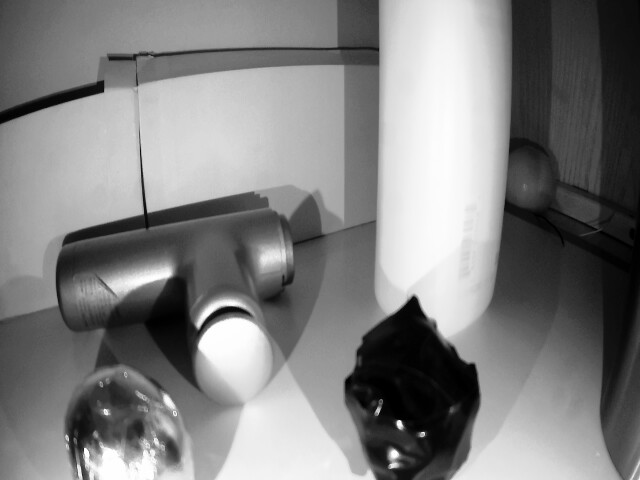black: (61, 371, 196, 480)
silver: (346, 320, 486, 480)
